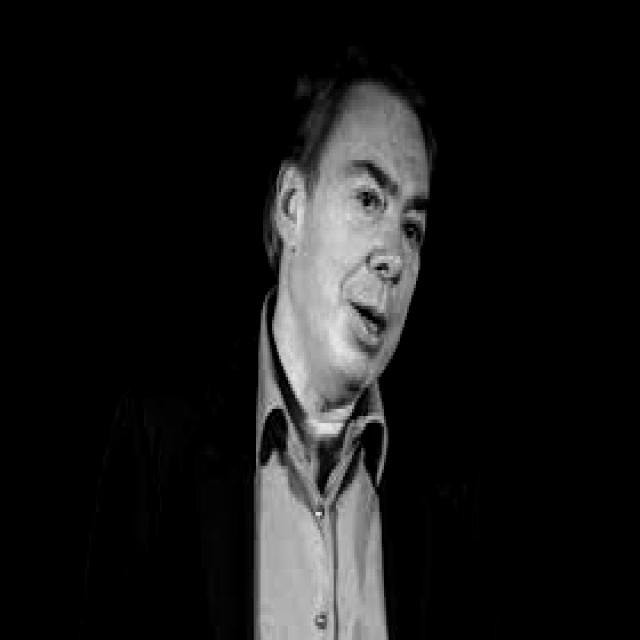normal_face: (268, 82, 432, 430)
